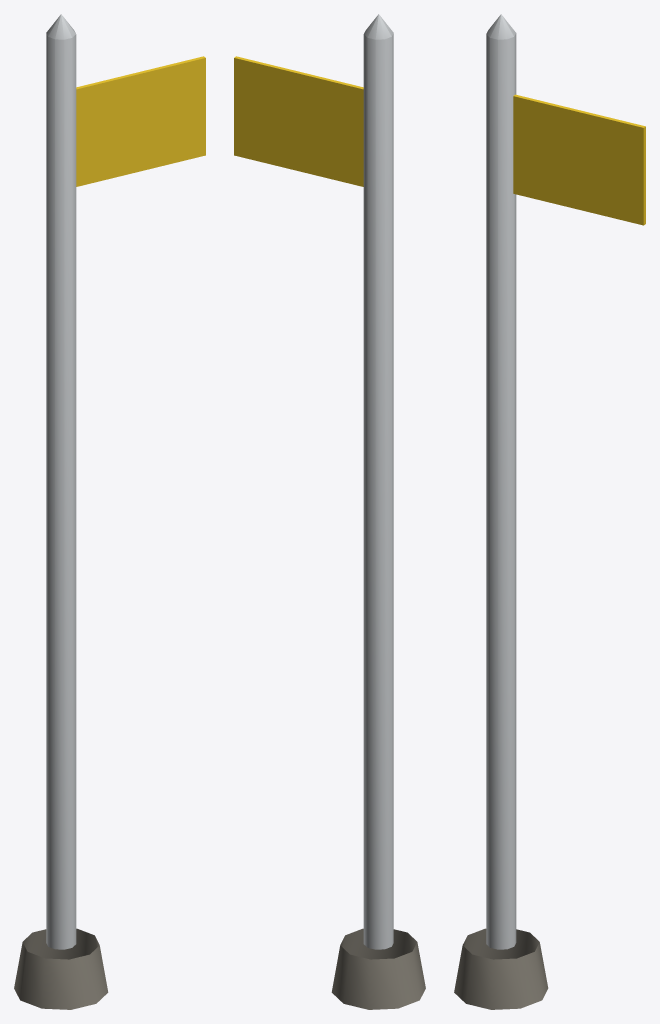
The model's file is env_flagpole.obj.
The picture shows the model from 3 angles, left to right: view 1: azimuth 30°, elevation 25°; view 2: azimuth 150°, elevation 25°; view 3: azimuth 330°, elevation 25°; orthographic projection.
Parts seen in each view (by area): view 1: Flagpole; view 2: Flagpole; view 3: Flagpole.
Boxes of the visible parts, <box> form: Flagpole: <box>14,14,205,1009</box>; Flagpole: <box>234,14,425,1009</box>; Flagpole: <box>454,14,645,1009</box>.
Bounding box in the file's own units: 0.99 × 5 × 0.4185.
